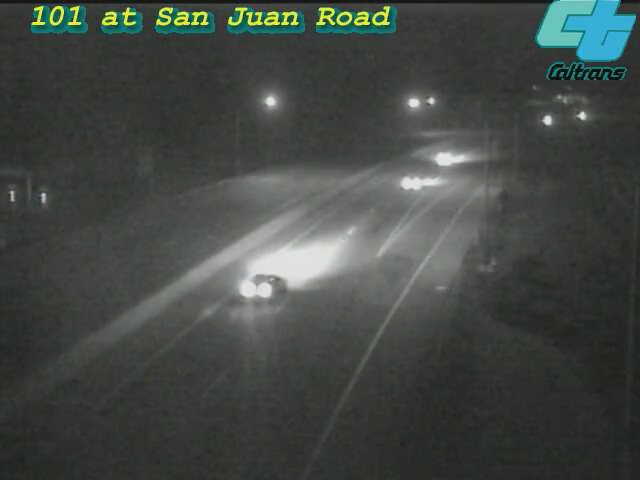vehicle: (371, 144, 451, 224), (220, 244, 300, 324), (522, 94, 572, 144), (558, 91, 608, 141), (419, 133, 469, 183)
